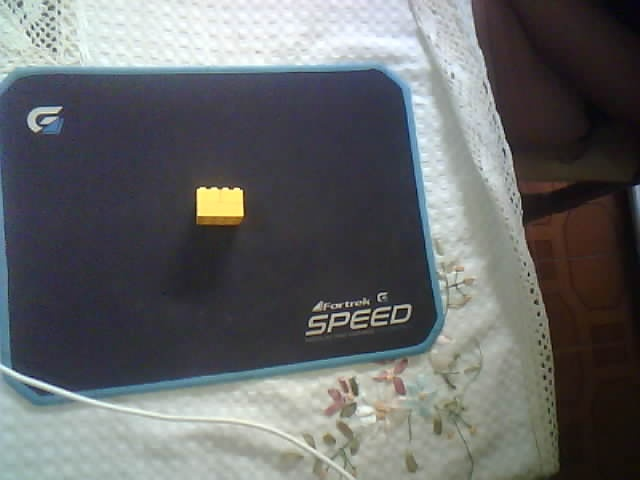lego: (194, 185, 244, 226)
